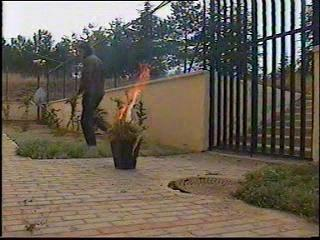fire: (117, 61, 155, 123)
